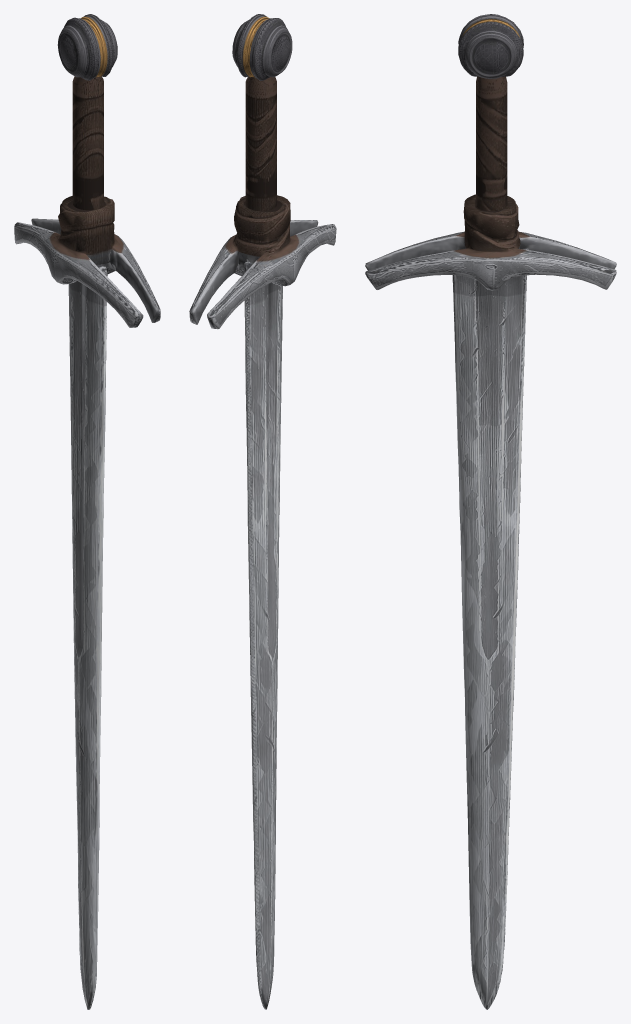
The model's file is meshy_sword.glb.
The picture shows the model from 3 angles, left to right: view 1: azimuth 30°, elevation 25°; view 2: azimuth 150°, elevation 25°; view 3: azimuth 270°, elevation 25°; orthographic projection.
Parts seen in each view (by area): view 1: blade; view 2: blade; view 3: blade.
Boxes of the visible parts, <box> form: blade: <box>14,14,160,1009</box>; blade: <box>189,14,336,1009</box>; blade: <box>365,14,616,1009</box>.
Bounding box in the file's own units: 0.0666 × 0.9607 × 0.221.
1 material, 1 textured.
